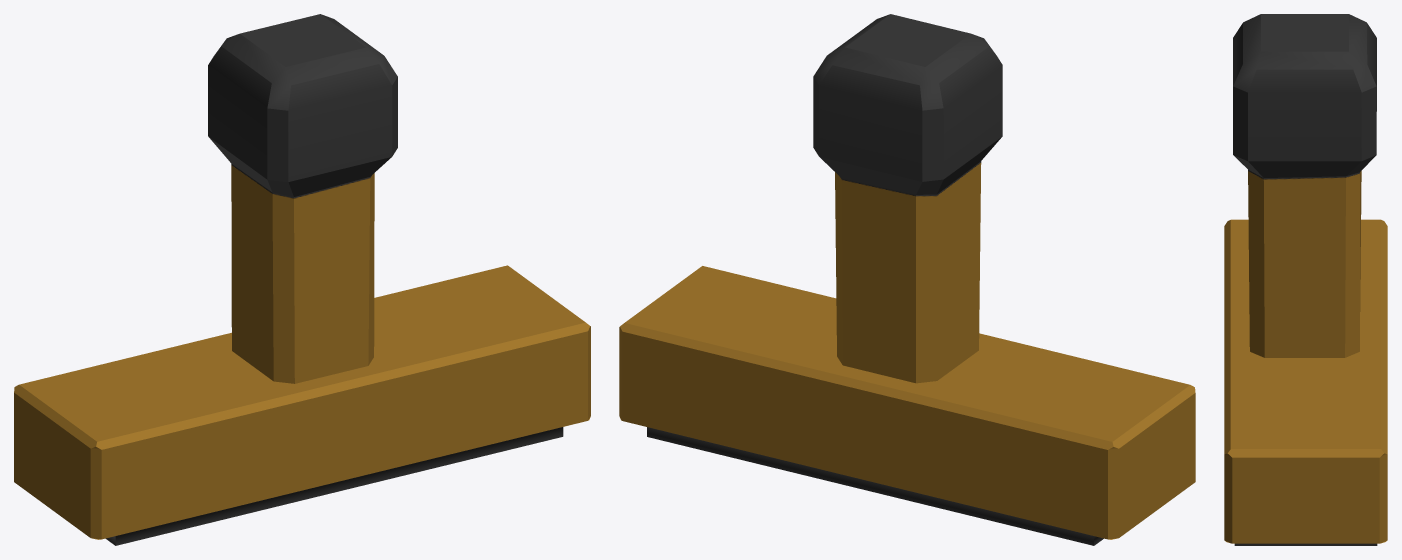
The model's file is Stamp.fbx.
3 renders of one model, left to right at view 1: azimuth 30°, elevation 25°; view 2: azimuth 150°, elevation 25°; view 3: azimuth 270°, elevation 25°, orthographic. The views are drawn at different scales.
Parts seen in each view (by area): view 1: Stamp1; view 2: Stamp1; view 3: Stamp1.
Part boxes in pixels (bbox=[...]): Stamp1: bbox=[14, 14, 590, 545]; Stamp1: bbox=[619, 14, 1195, 545]; Stamp1: bbox=[1224, 14, 1387, 545].
Size of the model in its own units: 39.85 by 32.28 by 11.7.
1 material, 1 textured.
